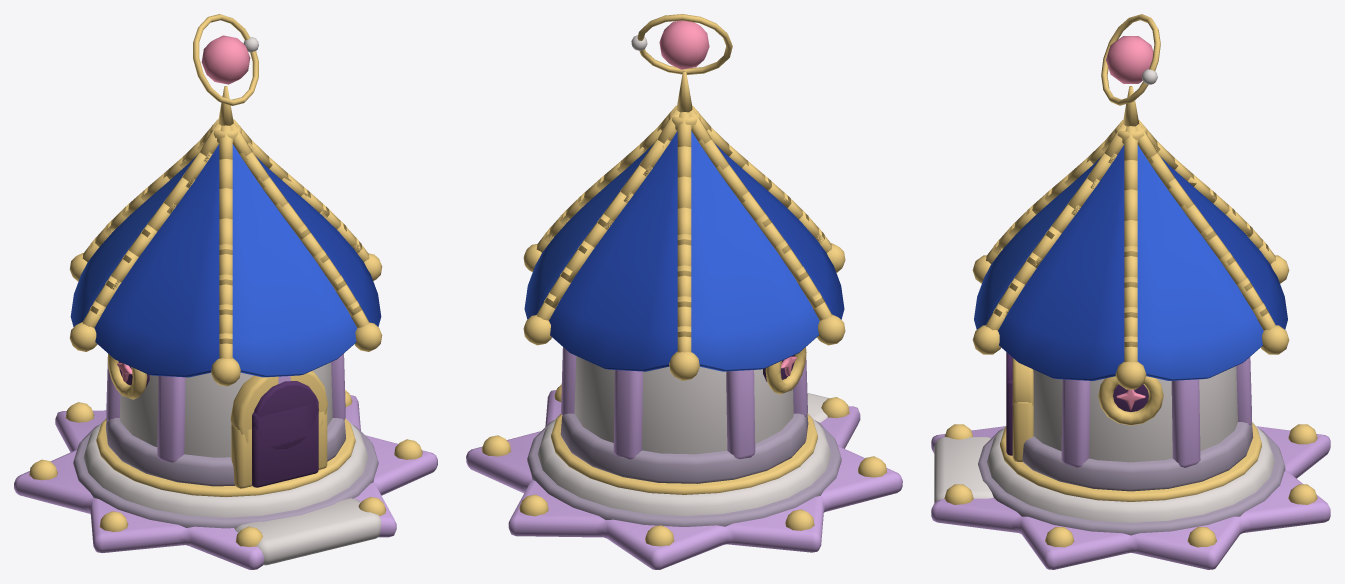
The model's file is Cottage.glb.
3 renders of one model, left to right at view 1: azimuth 30°, elevation 25°; view 2: azimuth 150°, elevation 25°; view 3: azimuth 270°, elevation 25°, orthographic. The views are drawn at different scales.
Parts seen in each view (by area): view 1: Cottage; view 2: Cottage; view 3: Cottage.
Boxes of the visible parts, box(x1,y1,x2,y2) form: Cottage: box(14, 14, 437, 569); Cottage: box(466, 14, 902, 569); Cottage: box(931, 14, 1330, 569).
Bounding box in the file's own units: 1.89 × 2.44 × 1.89.
